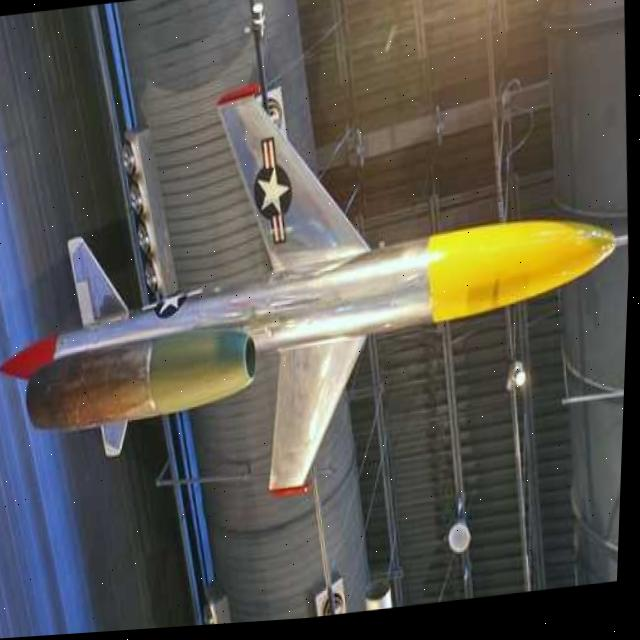missile: (0, 64, 636, 524)
